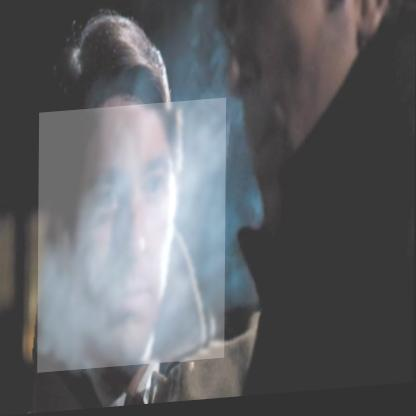smoke: (38, 102, 226, 373)
